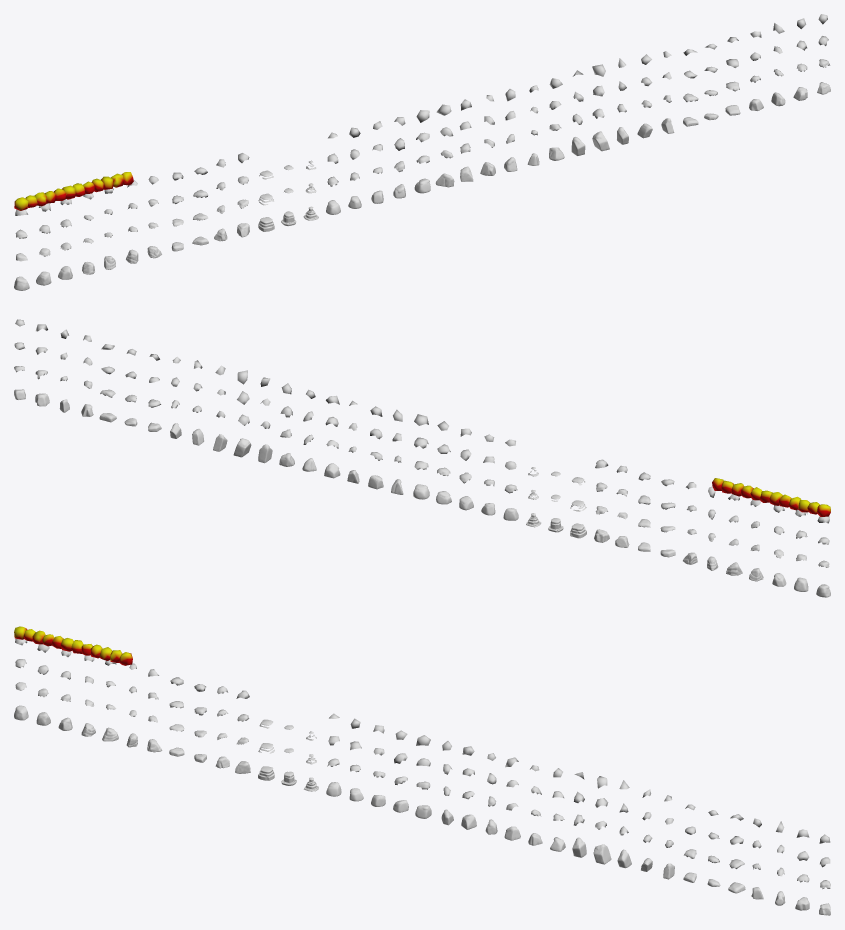
Rendered from rocks.glb.
3 renders of one model, top to bottom at view 1: azimuth 30°, elevation 25°; view 2: azimuth 150°, elevation 25°; view 3: azimuth 330°, elevation 25°, orthographic.
Size of what is drawn, in the model's own units: 128 by 13.77 by 2.07.
